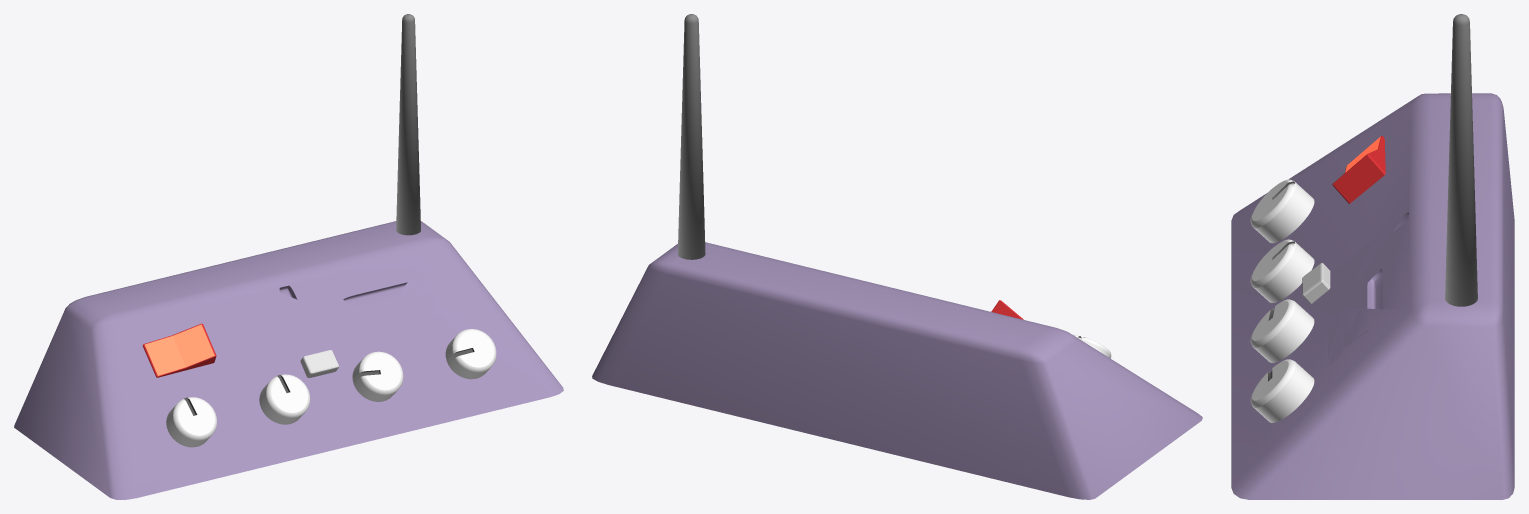
Rendered from Theremin.fbx.
3 views of the same model, side by side, from view 1: azimuth 30°, elevation 25°; view 2: azimuth 150°, elevation 25°; view 3: azimuth 270°, elevation 25° (orthographic). The views are drawn at different scales.
Parts seen in each view (by area): view 1: Cube, Cylinder, Cube.001, Cylinder.002, Cylinder.001, Cylinder.003, Cylinder.004, Cube.002; view 2: Cube, Cylinder; view 3: Cube, Cylinder, Cylinder.003, Cylinder.004, Cylinder.001, Cylinder.002, Cube.001, Cube.002.
Boxes of the visible parts, x1,y1,x2,y2 form: Cube: (14, 221, 563, 499); Cylinder: (396, 14, 420, 235); Cube.001: (142, 323, 216, 377); Cylinder.002: (259, 374, 310, 424); Cylinder.001: (166, 397, 216, 447); Cylinder.003: (352, 351, 403, 401); Cylinder.004: (445, 329, 496, 379); Cube.002: (300, 350, 339, 377); Cube: (592, 242, 1202, 499); Cylinder: (677, 14, 705, 259); Cube: (1231, 93, 1514, 499); Cylinder: (1445, 14, 1477, 306); Cylinder.003: (1250, 299, 1314, 362); Cylinder.004: (1250, 359, 1314, 422); Cylinder.001: (1250, 179, 1314, 243); Cylinder.002: (1250, 239, 1314, 302); Cube.001: (1332, 136, 1385, 203); Cube.002: (1302, 263, 1330, 304).
Bounding box in the file's own units: 486 × 340 × 200.
